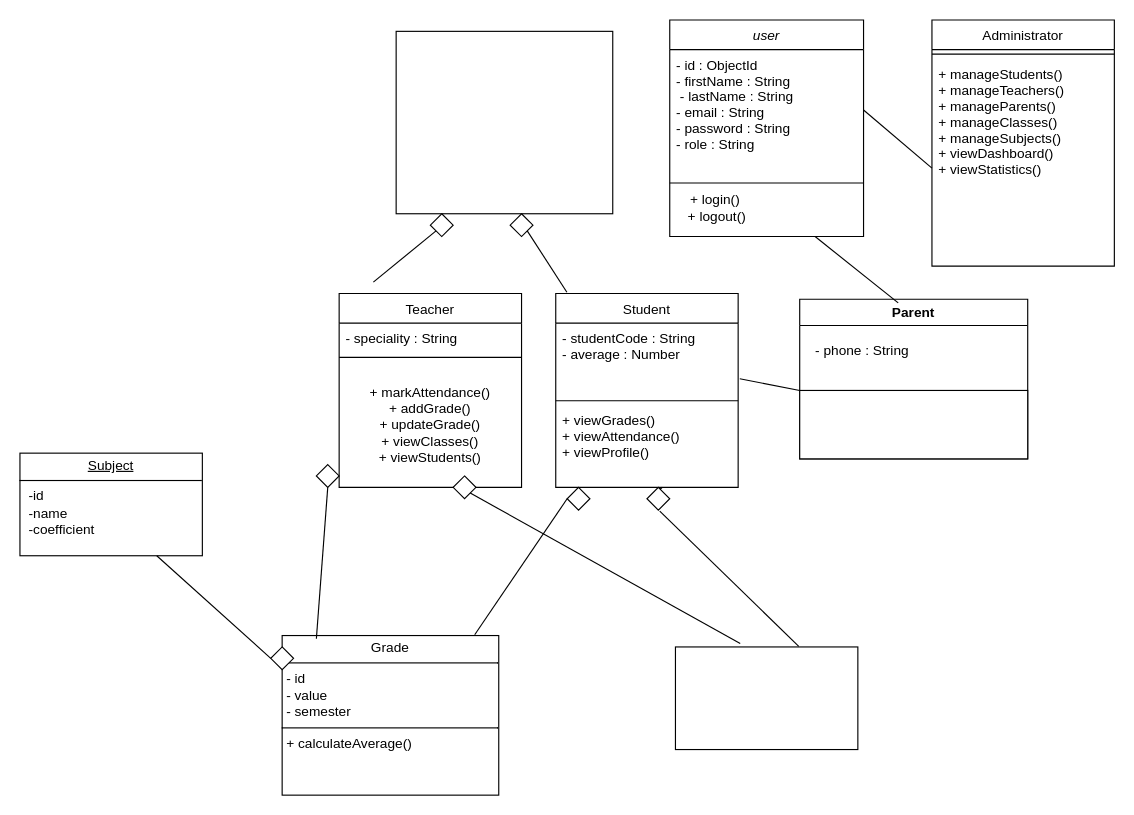
Image size: 1134x815. Some labels were removed from this diagram. The shapes that lost their labels are listed below. From the top down, each one's centre as x and y in pixels, then its label:
At point 504,122: "Class -id -name -level -schoolYear -capacity + addStudent() + removeStudent()".
At point 913,424: "+ viewChildGrades() + viewChildAttendance() + viewAnnouncements()".
At point 766,698: "Attendance - id - date - status".
